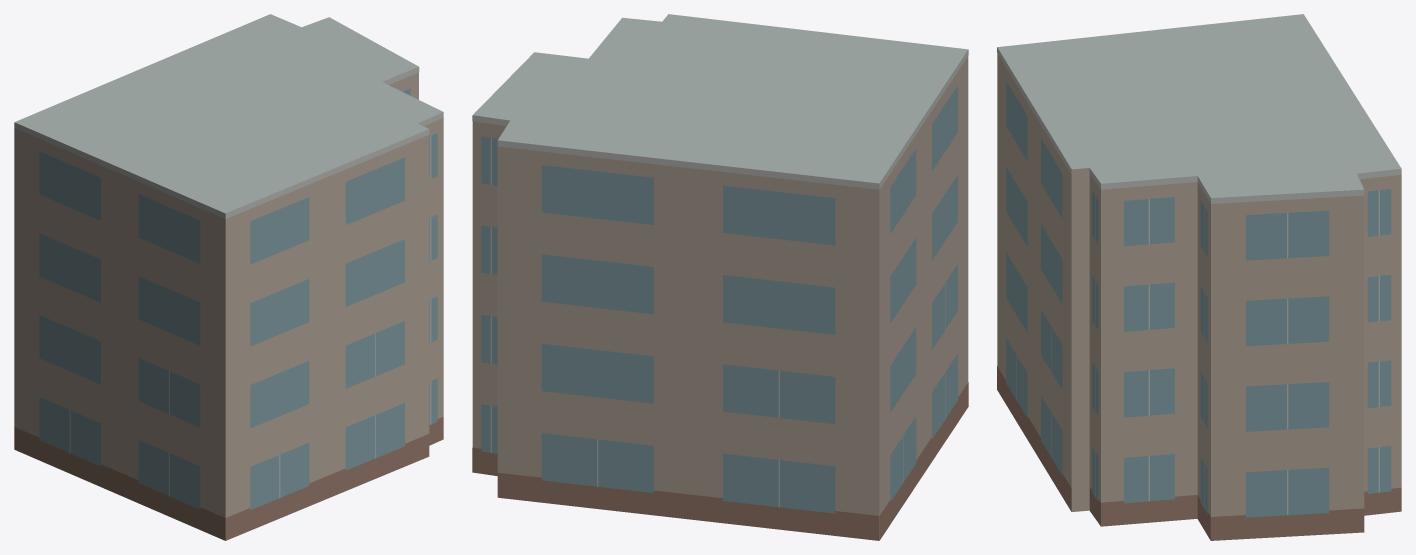
File: survey-upis-32720558.glb
3 renders of one model, left to right at view 1: azimuth 30°, elevation 25°; view 2: azimuth 150°, elevation 25°; view 3: azimuth 270°, elevation 25°, orthographic. The views are drawn at different scales.
Parts seen in each view (by area): view 1: survey-upis-32720558.tmp; view 2: survey-upis-32720558.tmp; view 3: survey-upis-32720558.tmp.
Part boxes in pixels (left/top/right/bottom): survey-upis-32720558.tmp: left=14, top=14, right=443, bottom=540; survey-upis-32720558.tmp: left=472, top=14, right=968, bottom=540; survey-upis-32720558.tmp: left=997, top=14, right=1401, bottom=540.
Size of the model in its own units: 16.25 by 14.1 by 15.09.
